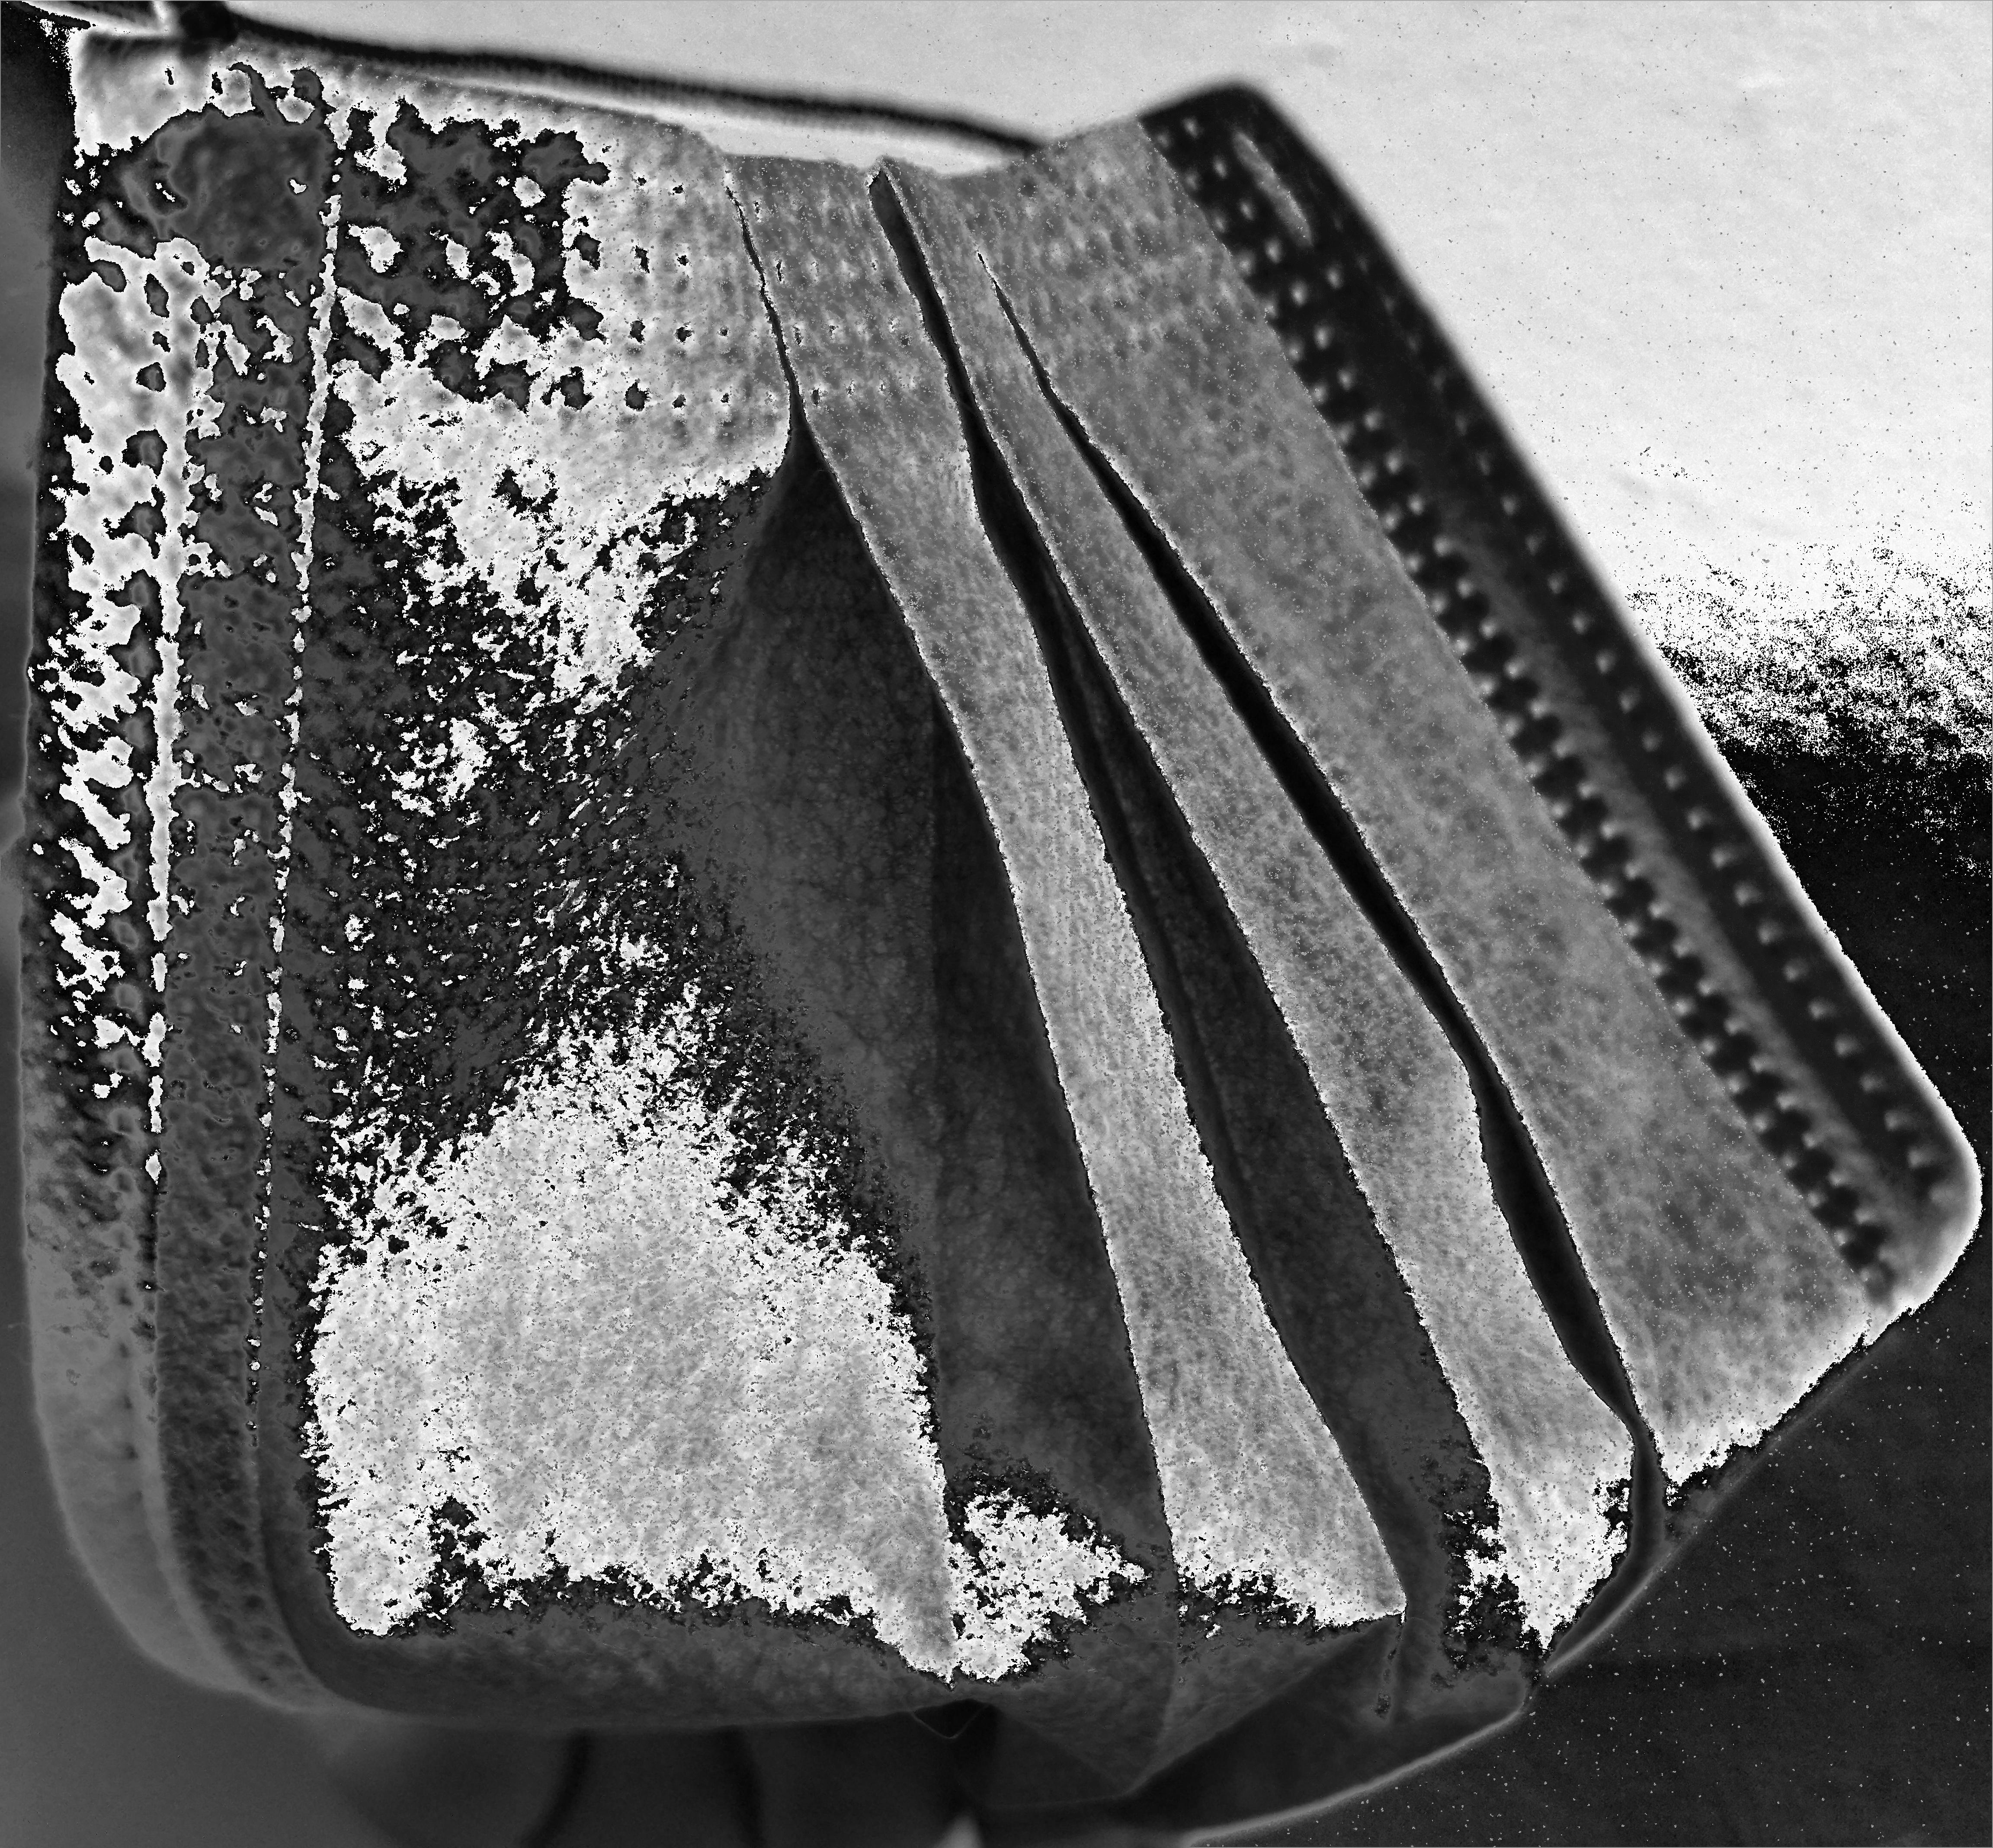Low GSM: (377, 443, 1507, 1728)
